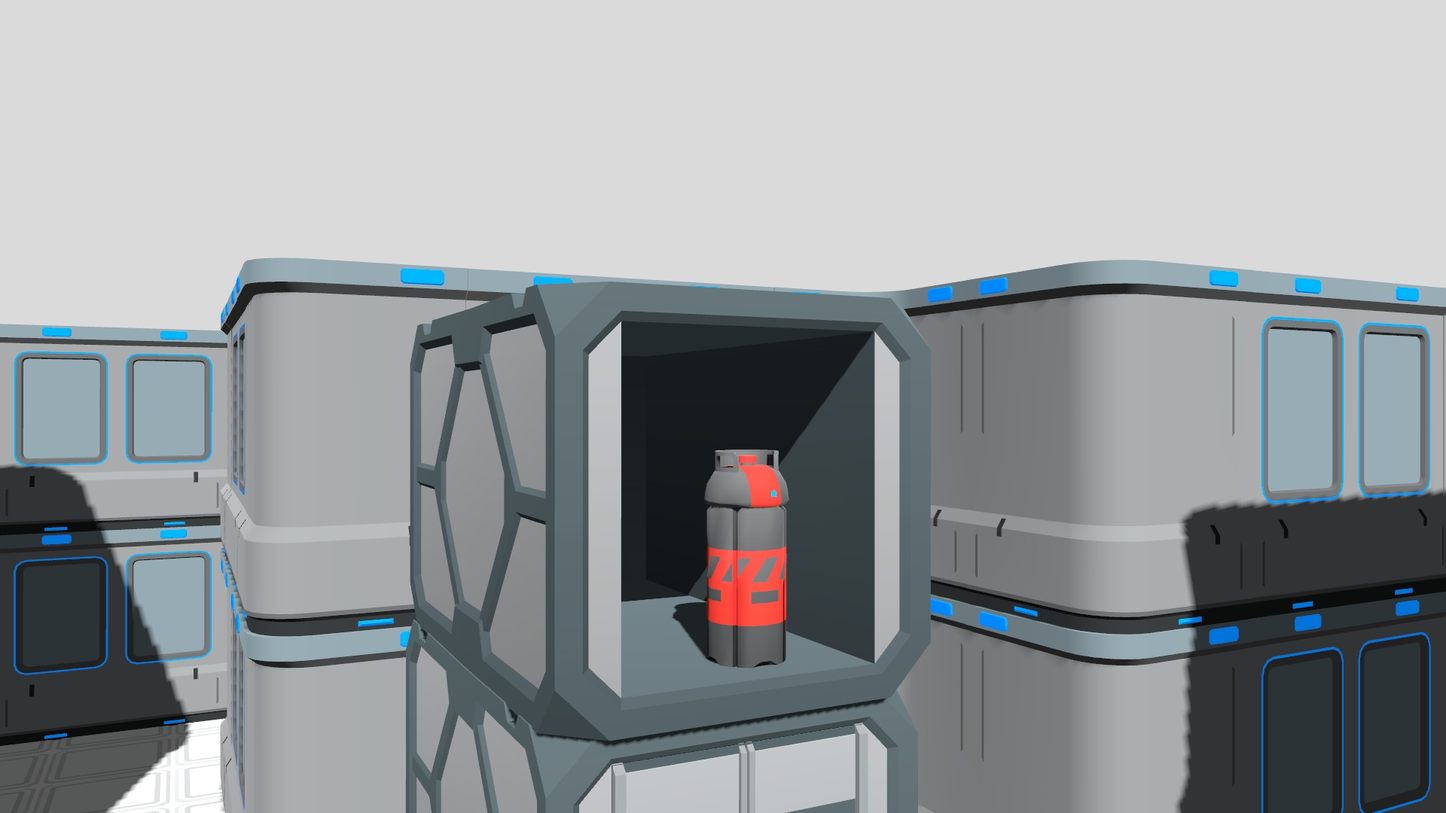red_barrel: (703, 443, 797, 673)
